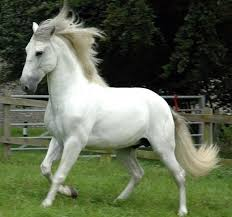horse: (18, 8, 217, 214)
